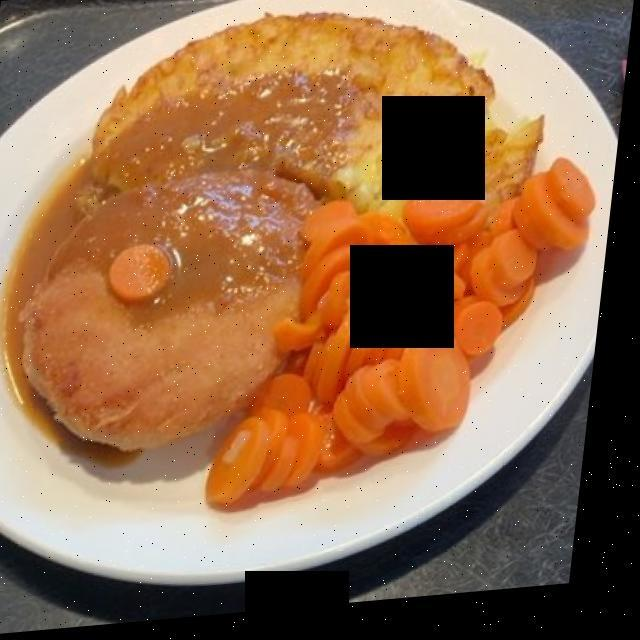bun: (34, 168, 319, 446)
carrot: (225, 176, 599, 498)
rosti: (97, 24, 535, 217)
sauce: (21, 77, 346, 455)
